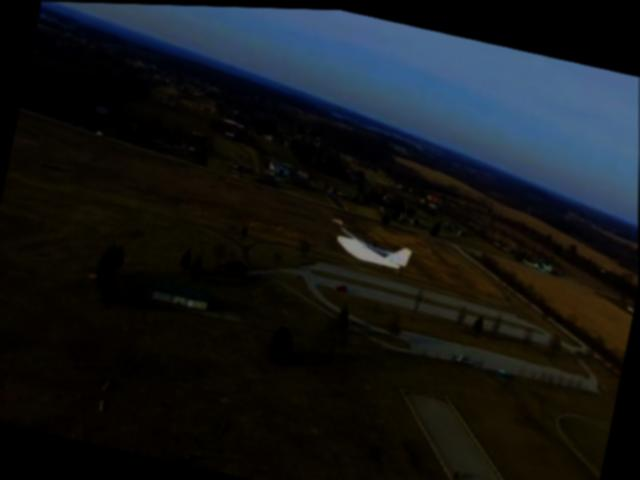uav: (318, 205, 427, 283)
